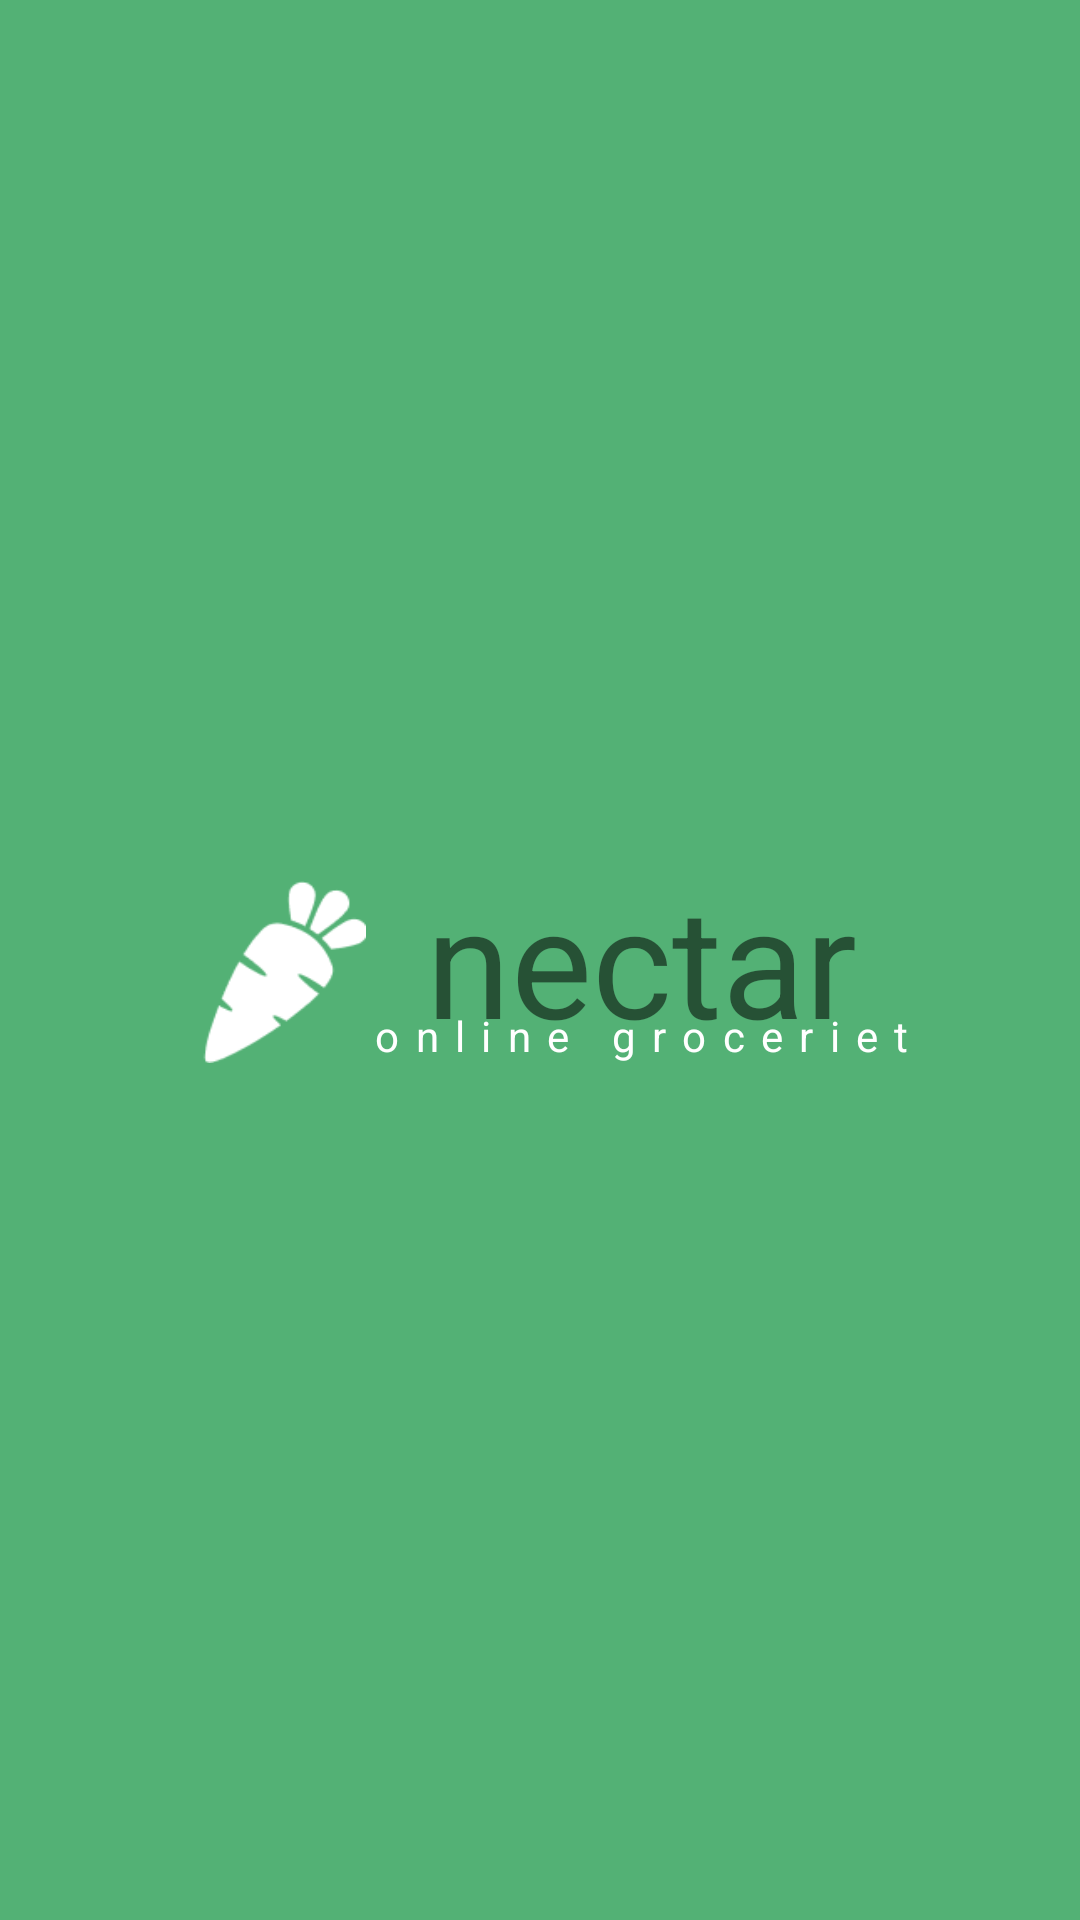

Icons on this 1080px x 1920px Android screen, each with the point to tap as [x,y]:
carrot: [285,972]
